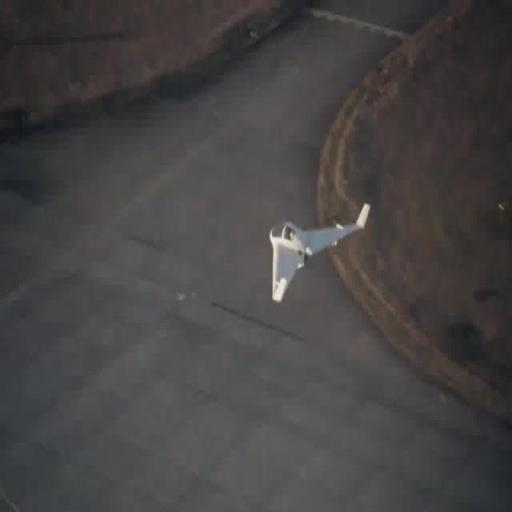uav: (262, 193, 376, 312)
